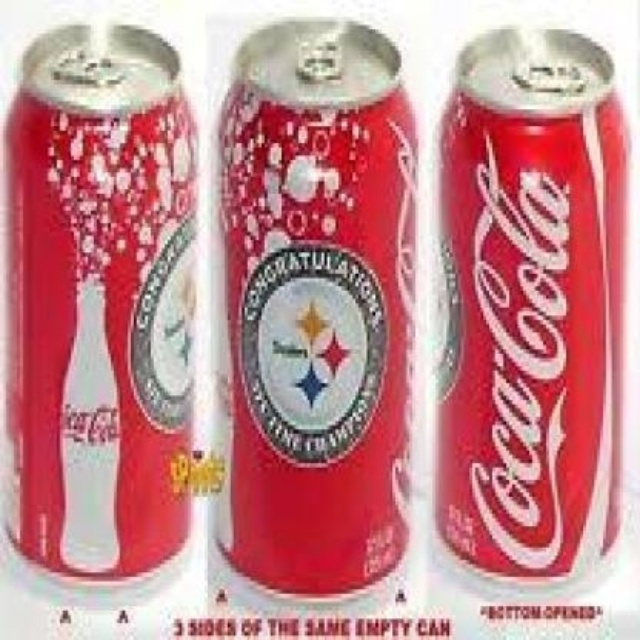trash: (222, 20, 414, 594), (8, 25, 194, 577), (437, 28, 623, 577)
